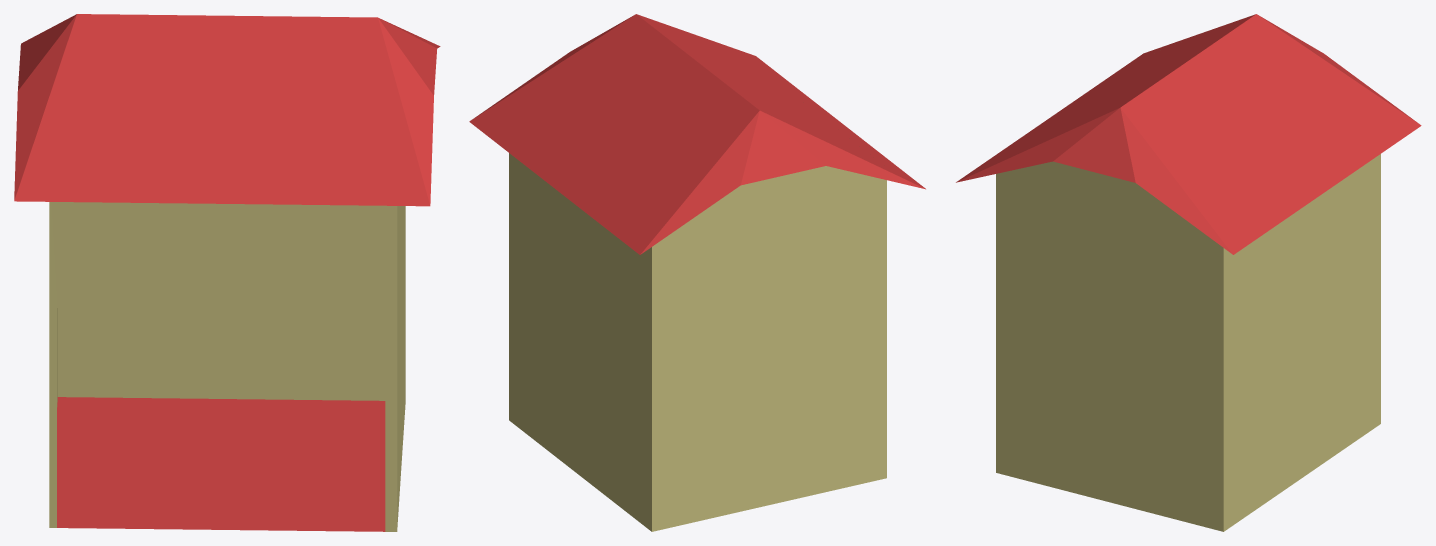
3 views of the same model, side by side, from view 1: azimuth 30°, elevation 25°; view 2: azimuth 150°, elevation 25°; view 3: azimuth 270°, elevation 25° (orthographic). The views are drawn at different scales.
Parts seen in each view (by area): view 1: group_5, group_3, group_6, group_4; view 2: group_5, group_3, group_4; view 3: group_5, group_3, group_4.
Boxes of the visible parts, x1=… form: group_5: x1=49, y1=202, x2=405, y2=531; group_3: x1=14, y1=14, x2=436, y2=206; group_6: x1=57, y1=397, x2=385, y2=531; group_4: x1=14, y1=29, x2=440, y2=206; group_5: x1=509, y1=153, x2=886, y2=531; group_3: x1=469, y1=14, x2=885, y2=254; group_4: x1=470, y1=32, x2=925, y2=252; group_5: x1=996, y1=154, x2=1380, y2=531; group_3: x1=957, y1=14, x2=1421, y2=254; group_4: x1=956, y1=31, x2=1418, y2=254.
Bounding box in the file's own units: 16.16 × 15.8 × 14.48.
